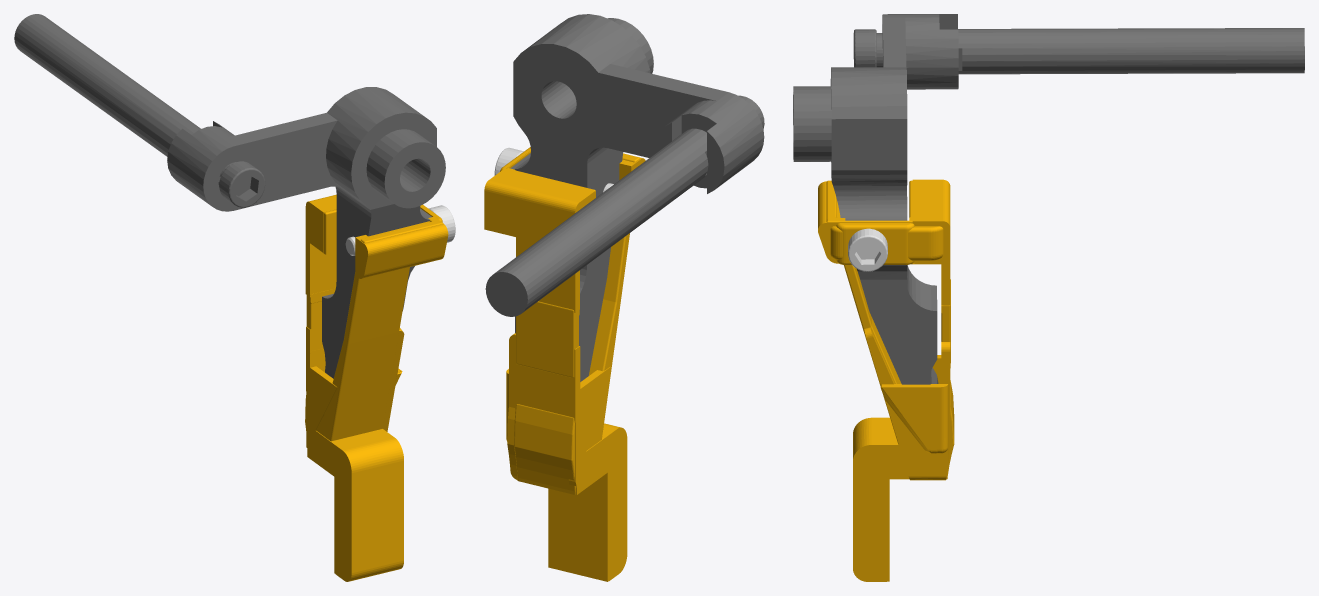
File: jaw_right_extended.dae
3 renders of one model, left to right at view 1: azimuth 30°, elevation 25°; view 2: azimuth 150°, elevation 25°; view 3: azimuth 270°, elevation 25°, orthographic. The views are drawn at different scales.
Visible parts, largest first — view 1: DOBOT_Magician-mit-TOOLS_Greifer.001, dobot_gripper_extender.015, DOBOT_Magician-mit-TOOLS_Greifer.002; view 2: DOBOT_Magician-mit-TOOLS_Greifer.001, dobot_gripper_extender.015, DOBOT_Magician-mit-TOOLS_Greifer.002; view 3: DOBOT_Magician-mit-TOOLS_Greifer.001, dobot_gripper_extender.015, DOBOT_Magician-mit-TOOLS_Greifer.002.
Part boxes in pixels (x1,y1,x2,y2): DOBOT_Magician-mit-TOOLS_Greifer.001: [14, 14, 445, 378]; dobot_gripper_extender.015: [305, 194, 448, 581]; DOBOT_Magician-mit-TOOLS_Greifer.002: [345, 205, 455, 255]; DOBOT_Magician-mit-TOOLS_Greifer.001: [485, 14, 764, 381]; dobot_gripper_extender.015: [484, 147, 645, 581]; DOBOT_Magician-mit-TOOLS_Greifer.002: [494, 147, 613, 192]; DOBOT_Magician-mit-TOOLS_Greifer.001: [793, 14, 1304, 384]; dobot_gripper_extender.015: [818, 179, 954, 581]; DOBOT_Magician-mit-TOOLS_Greifer.002: [848, 228, 887, 271].
Size of the model in its own units: 0.0385 by 0.0677 by 0.073.
